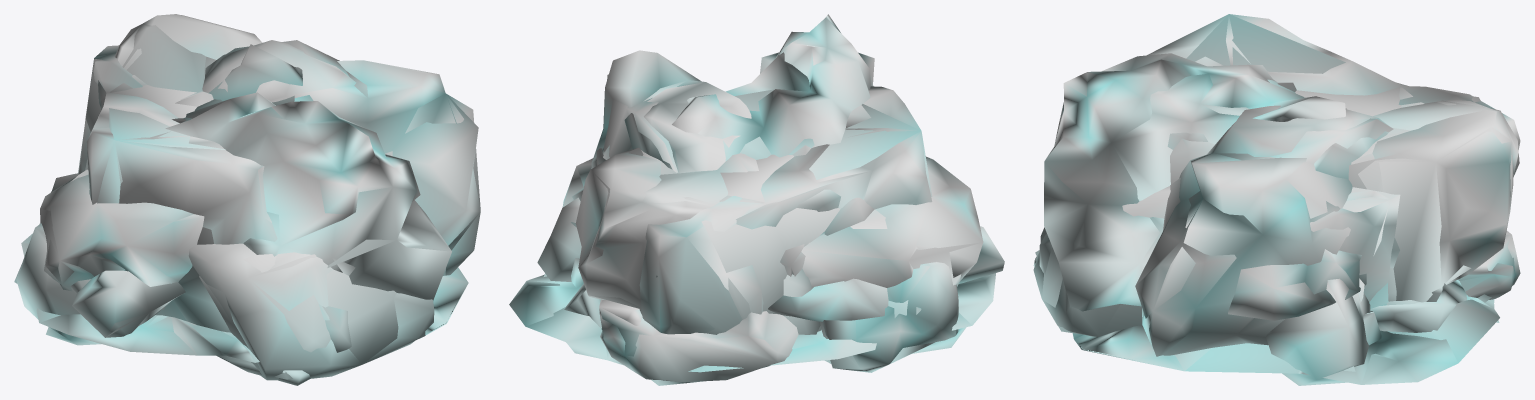
Rendered from rock_scans.glb.
3 views of the same model, side by side, from view 1: azimuth 30°, elevation 25°; view 2: azimuth 150°, elevation 25°; view 3: azimuth 270°, elevation 25° (orthographic). The views are drawn at different scales.
Parts seen in each view (by area): view 1: Rock2_L0, Rock3_L0, Rock5_L0, Rock0_L0, Rock6_L0, Rock0_L1, Rock2_L1, Rock5_L2, Rock3_L1, Rock4_L0, Rock7_L0, Rock7_L1 (+6 smaller); view 2: Rock5_L0, Rock2_L0, Rock3_L0, Rock6_L0, Rock0_L0, Rock5_L2, Rock4_L0, Rock1_L0, Rock5_L1, Rock1_L1, Rock7_L0, Rock0_L1 (+7 smaller); view 3: Rock2_L0, Rock3_L0, Rock0_L0, Rock3_L1, Rock5_L0, Rock2_L1, Rock4_L0, Rock0_L2, Rock5_L2, Rock7_L1, Rock0_L1, Rock7_L0 (+7 smaller).
Boxes of the visible parts, left/top/right/bottom form: Rock2_L0: left=87, top=44, right=451, bottom=275; Rock3_L0: left=39, top=40, right=480, bottom=337; Rock5_L0: left=78, top=45, right=351, bottom=352; Rock0_L0: left=114, top=14, right=434, bottom=380; Rock6_L0: left=40, top=174, right=204, bottom=309; Rock0_L1: left=122, top=15, right=425, bottom=377; Rock2_L1: left=182, top=65, right=451, bottom=300; Rock5_L2: left=78, top=59, right=225, bottom=203; Rock3_L1: left=70, top=40, right=480, bottom=336; Rock4_L0: left=14, top=223, right=100, bottom=345; Rock7_L0: left=21, top=233, right=468, bottom=362; Rock7_L1: left=21, top=243, right=259, bottom=362; Rock5_L0: left=596, top=86, right=932, bottom=334; Rock2_L0: left=564, top=14, right=874, bottom=385; Rock3_L0: left=591, top=50, right=1004, bottom=321; Rock6_L0: left=562, top=156, right=983, bottom=287; Rock0_L0: left=575, top=148, right=809, bottom=306; Rock5_L2: left=656, top=104, right=920, bottom=319; Rock4_L0: left=537, top=197, right=966, bottom=372; Rock1_L0: left=599, top=300, right=798, bottom=382; Rock5_L1: left=597, top=86, right=932, bottom=334; Rock1_L1: left=599, top=299, right=776, bottom=382; Rock7_L0: left=509, top=258, right=995, bottom=372; Rock0_L1: left=586, top=147, right=804, bottom=308; Rock2_L0: left=1044, top=53, right=1491, bottom=332; Rock3_L0: left=1135, top=105, right=1389, bottom=356; Rock0_L0: left=1033, top=100, right=1519, bottom=336; Rock3_L1: left=1142, top=118, right=1393, bottom=355; Rock5_L0: left=1039, top=14, right=1520, bottom=301; Rock2_L1: left=1112, top=73, right=1386, bottom=305; Rock4_L0: left=1265, top=278, right=1370, bottom=385; Rock0_L2: left=1358, top=127, right=1441, bottom=302; Rock5_L2: left=1186, top=14, right=1480, bottom=255; Rock7_L1: left=1072, top=299, right=1494, bottom=384; Rock0_L1: left=1040, top=100, right=1513, bottom=336; Rock7_L0: left=1074, top=295, right=1499, bottom=384.
Size of the model in its own units: 0.9973 by 0.5368 by 0.9989.
